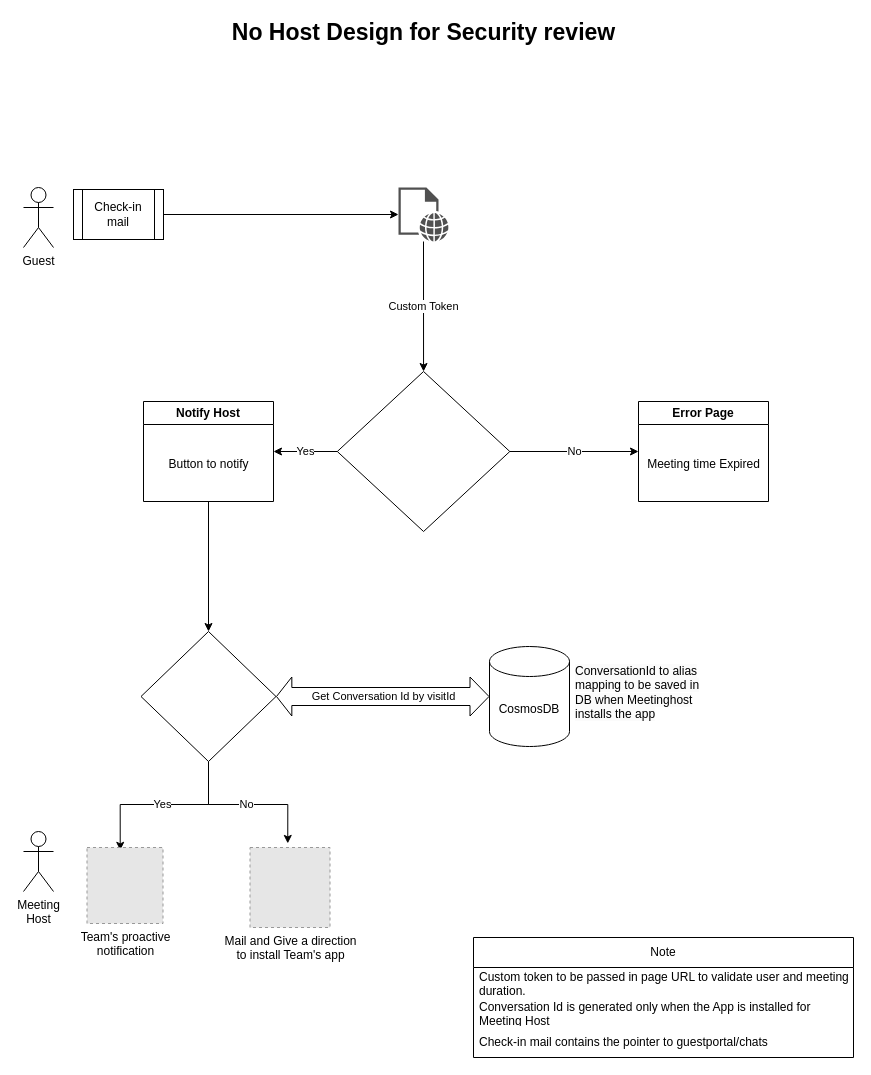
Some shapes in this 871 by 1075 pixel diagram are drawn without their labels. Grey dashed boxes stand in for pictures. The centre of each missing label's shape, as x and y in pixels:
gp/chats?<<token>>: the point at 423,214
Is Conversation Id found?: the point at 208,696
Is token valid? (duration & email): the point at 423,451
